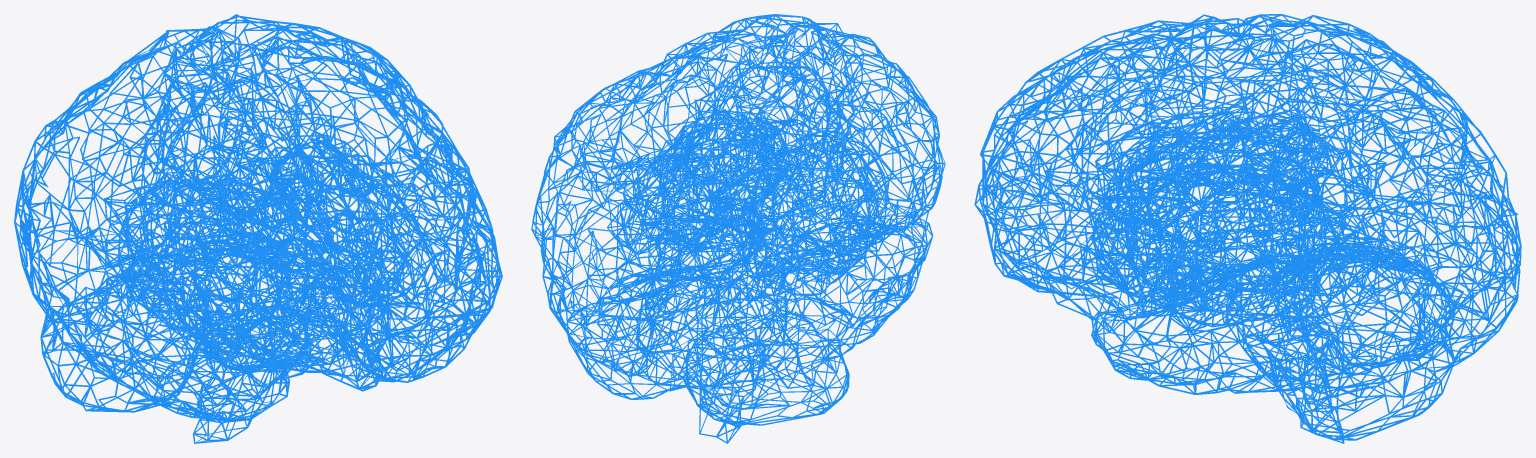
File: brain 1.glb
3 renders of one model, left to right at view 1: azimuth 30°, elevation 25°; view 2: azimuth 150°, elevation 25°; view 3: azimuth 270°, elevation 25°, orthographic. The views are drawn at different scales.
Parts seen in each view (by area): view 1: Brain_Model.001; view 2: Brain_Model.001; view 3: Brain_Model.001.
Part boxes in pixels (x1,y1,x2,y2): Brain_Model.001: (14, 14, 502, 443); Brain_Model.001: (531, 14, 945, 443); Brain_Model.001: (974, 14, 1521, 443).
Bounding box in the file's own units: 1.06 × 1.11 × 1.32.
